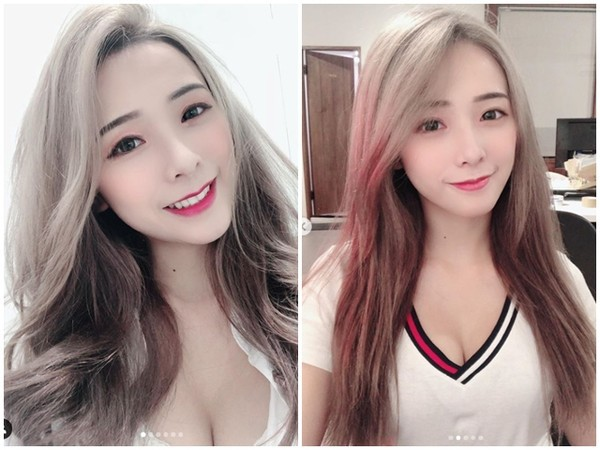people: (300, 8, 585, 441), (19, 6, 297, 446)
